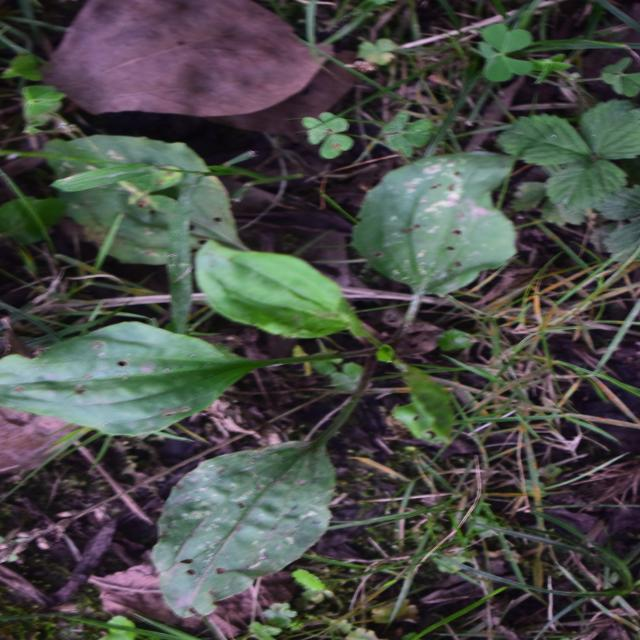plantain: (107, 92, 465, 494)
